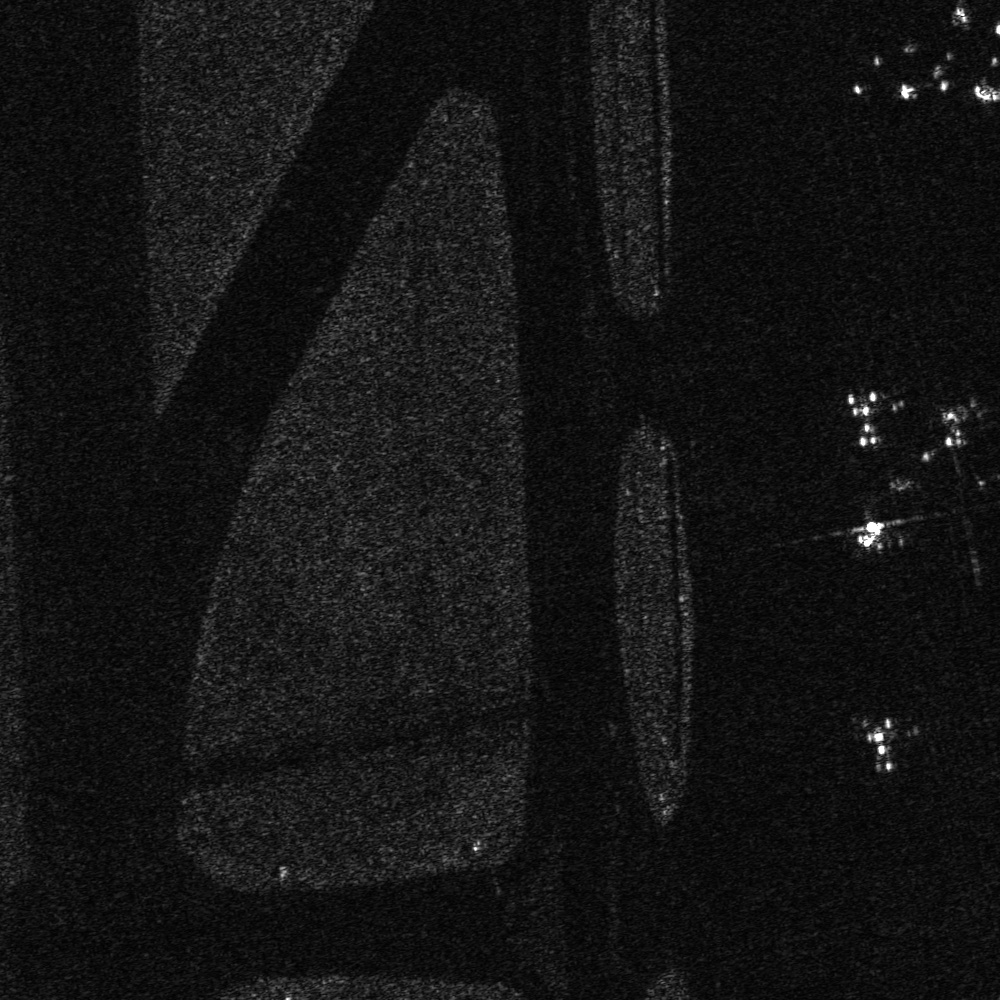ARJ21: (847, 709, 925, 780), (840, 508, 900, 560)
other: (836, 382, 903, 456), (926, 390, 988, 458)
